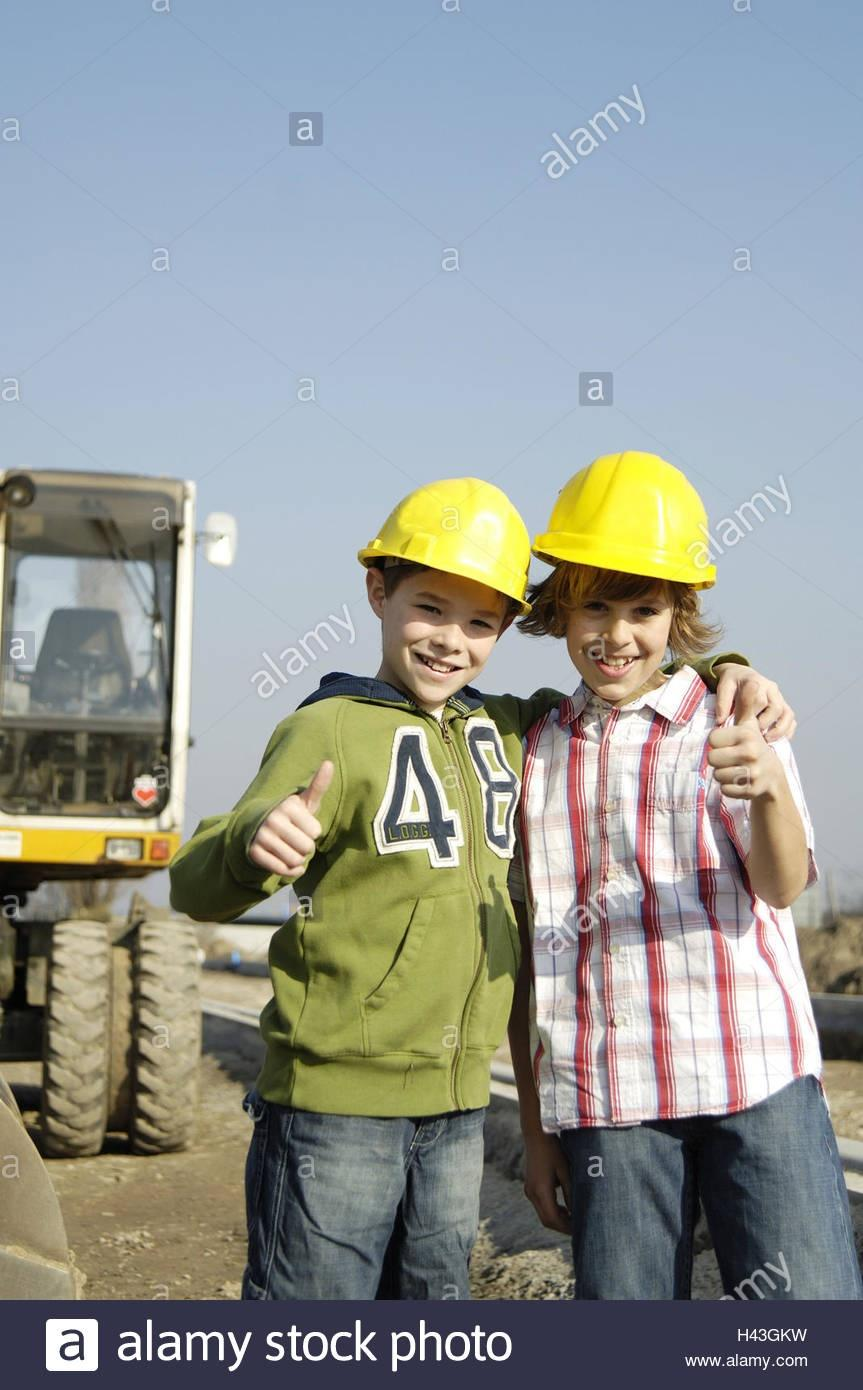Helmet: (360, 475, 536, 681), (541, 448, 706, 660)
NoVest: (538, 693, 802, 1099), (293, 700, 527, 1108)
